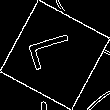L_E: (26, 33, 84, 77)
